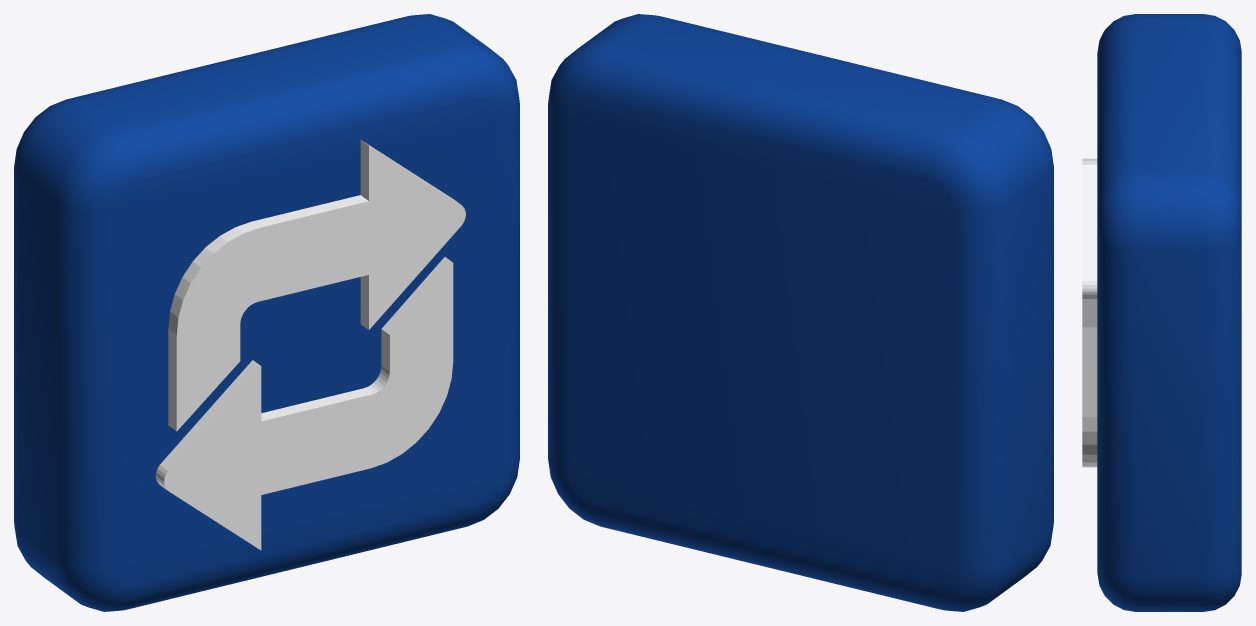
Rendered from repeat_button.glb.
3 renders of one model, left to right at view 1: azimuth 30°, elevation 25°; view 2: azimuth 150°, elevation 25°; view 3: azimuth 270°, elevation 25°, orthographic. The views are drawn at different scales.
Visible parts, largest first — view 1: Cube.6415; view 2: Cube.6415; view 3: Cube.6415.
Boxes of the visible parts, x1,y1,x2,y2 form: Cube.6415: (14, 14, 519, 611); Cube.6415: (548, 14, 1053, 611); Cube.6415: (1082, 14, 1241, 611).
Size of the model in its own units: 2.2 by 2.2 by 0.73.
1 material, 1 textured.
